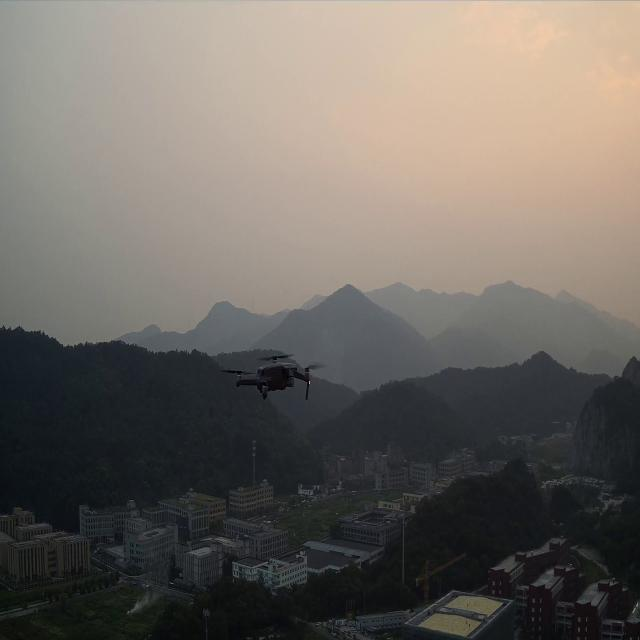UAV: (219, 352, 327, 403)
